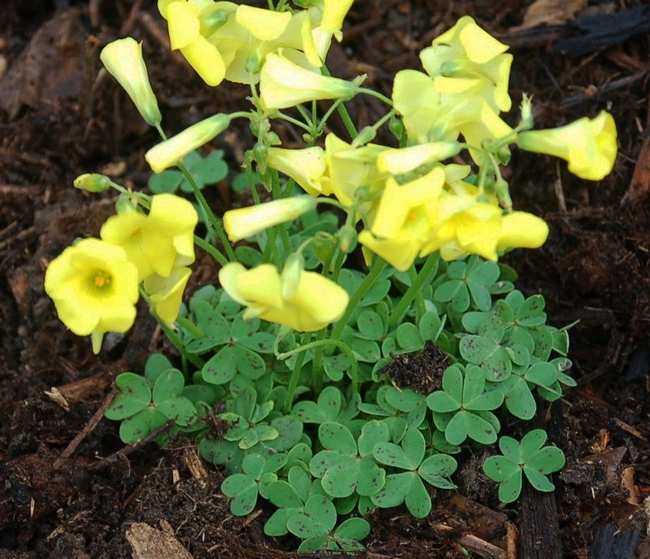oxalis: (76, 298, 603, 527)
